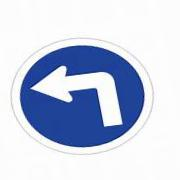left: (9, 37, 154, 155)
